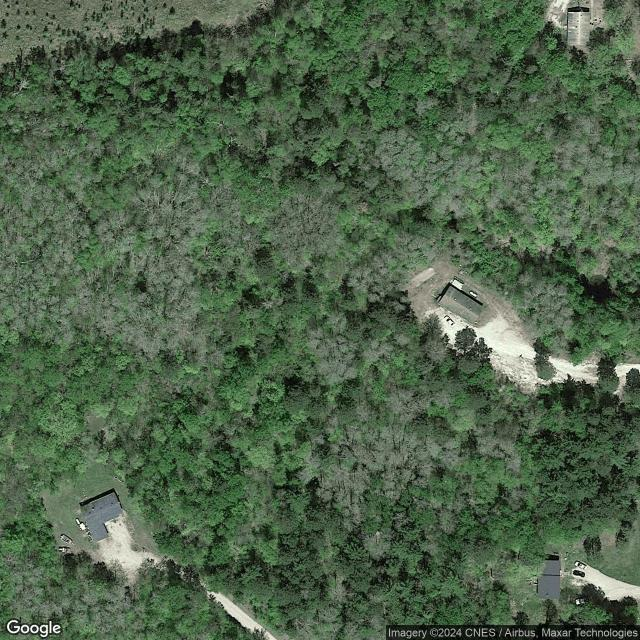Propane: (469, 289, 479, 298), (74, 517, 82, 526)
